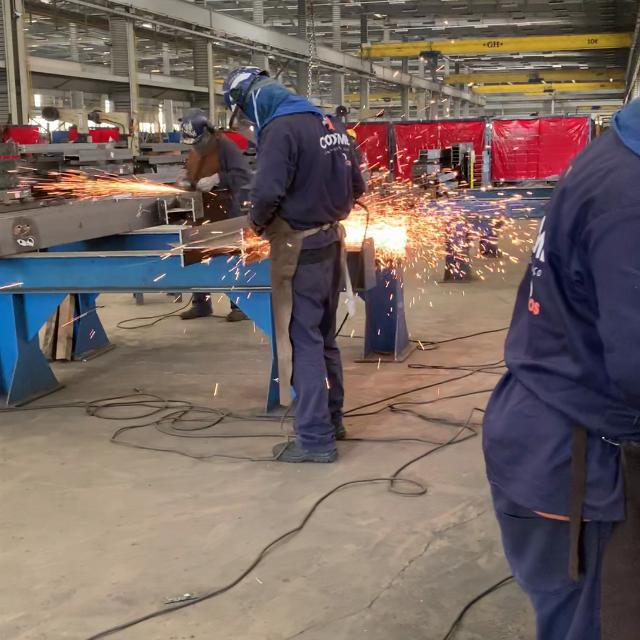mask: (219, 64, 366, 464)
safety-shoe: (269, 440, 343, 464)
